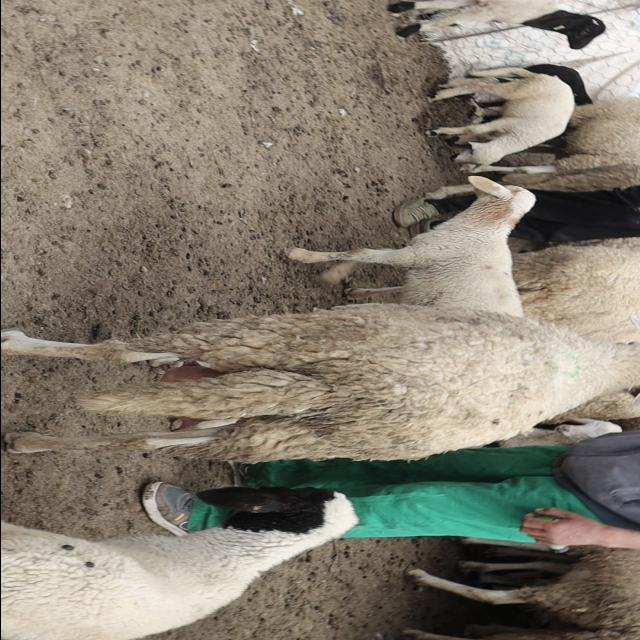Score_2: (1, 304, 640, 462)
